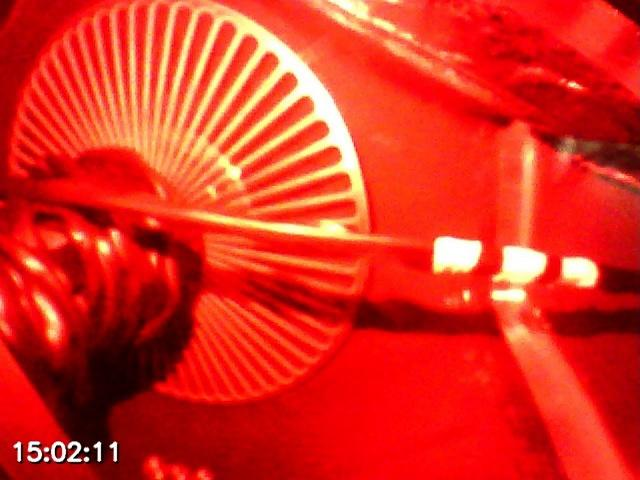white-dots: (432, 235, 598, 289)
